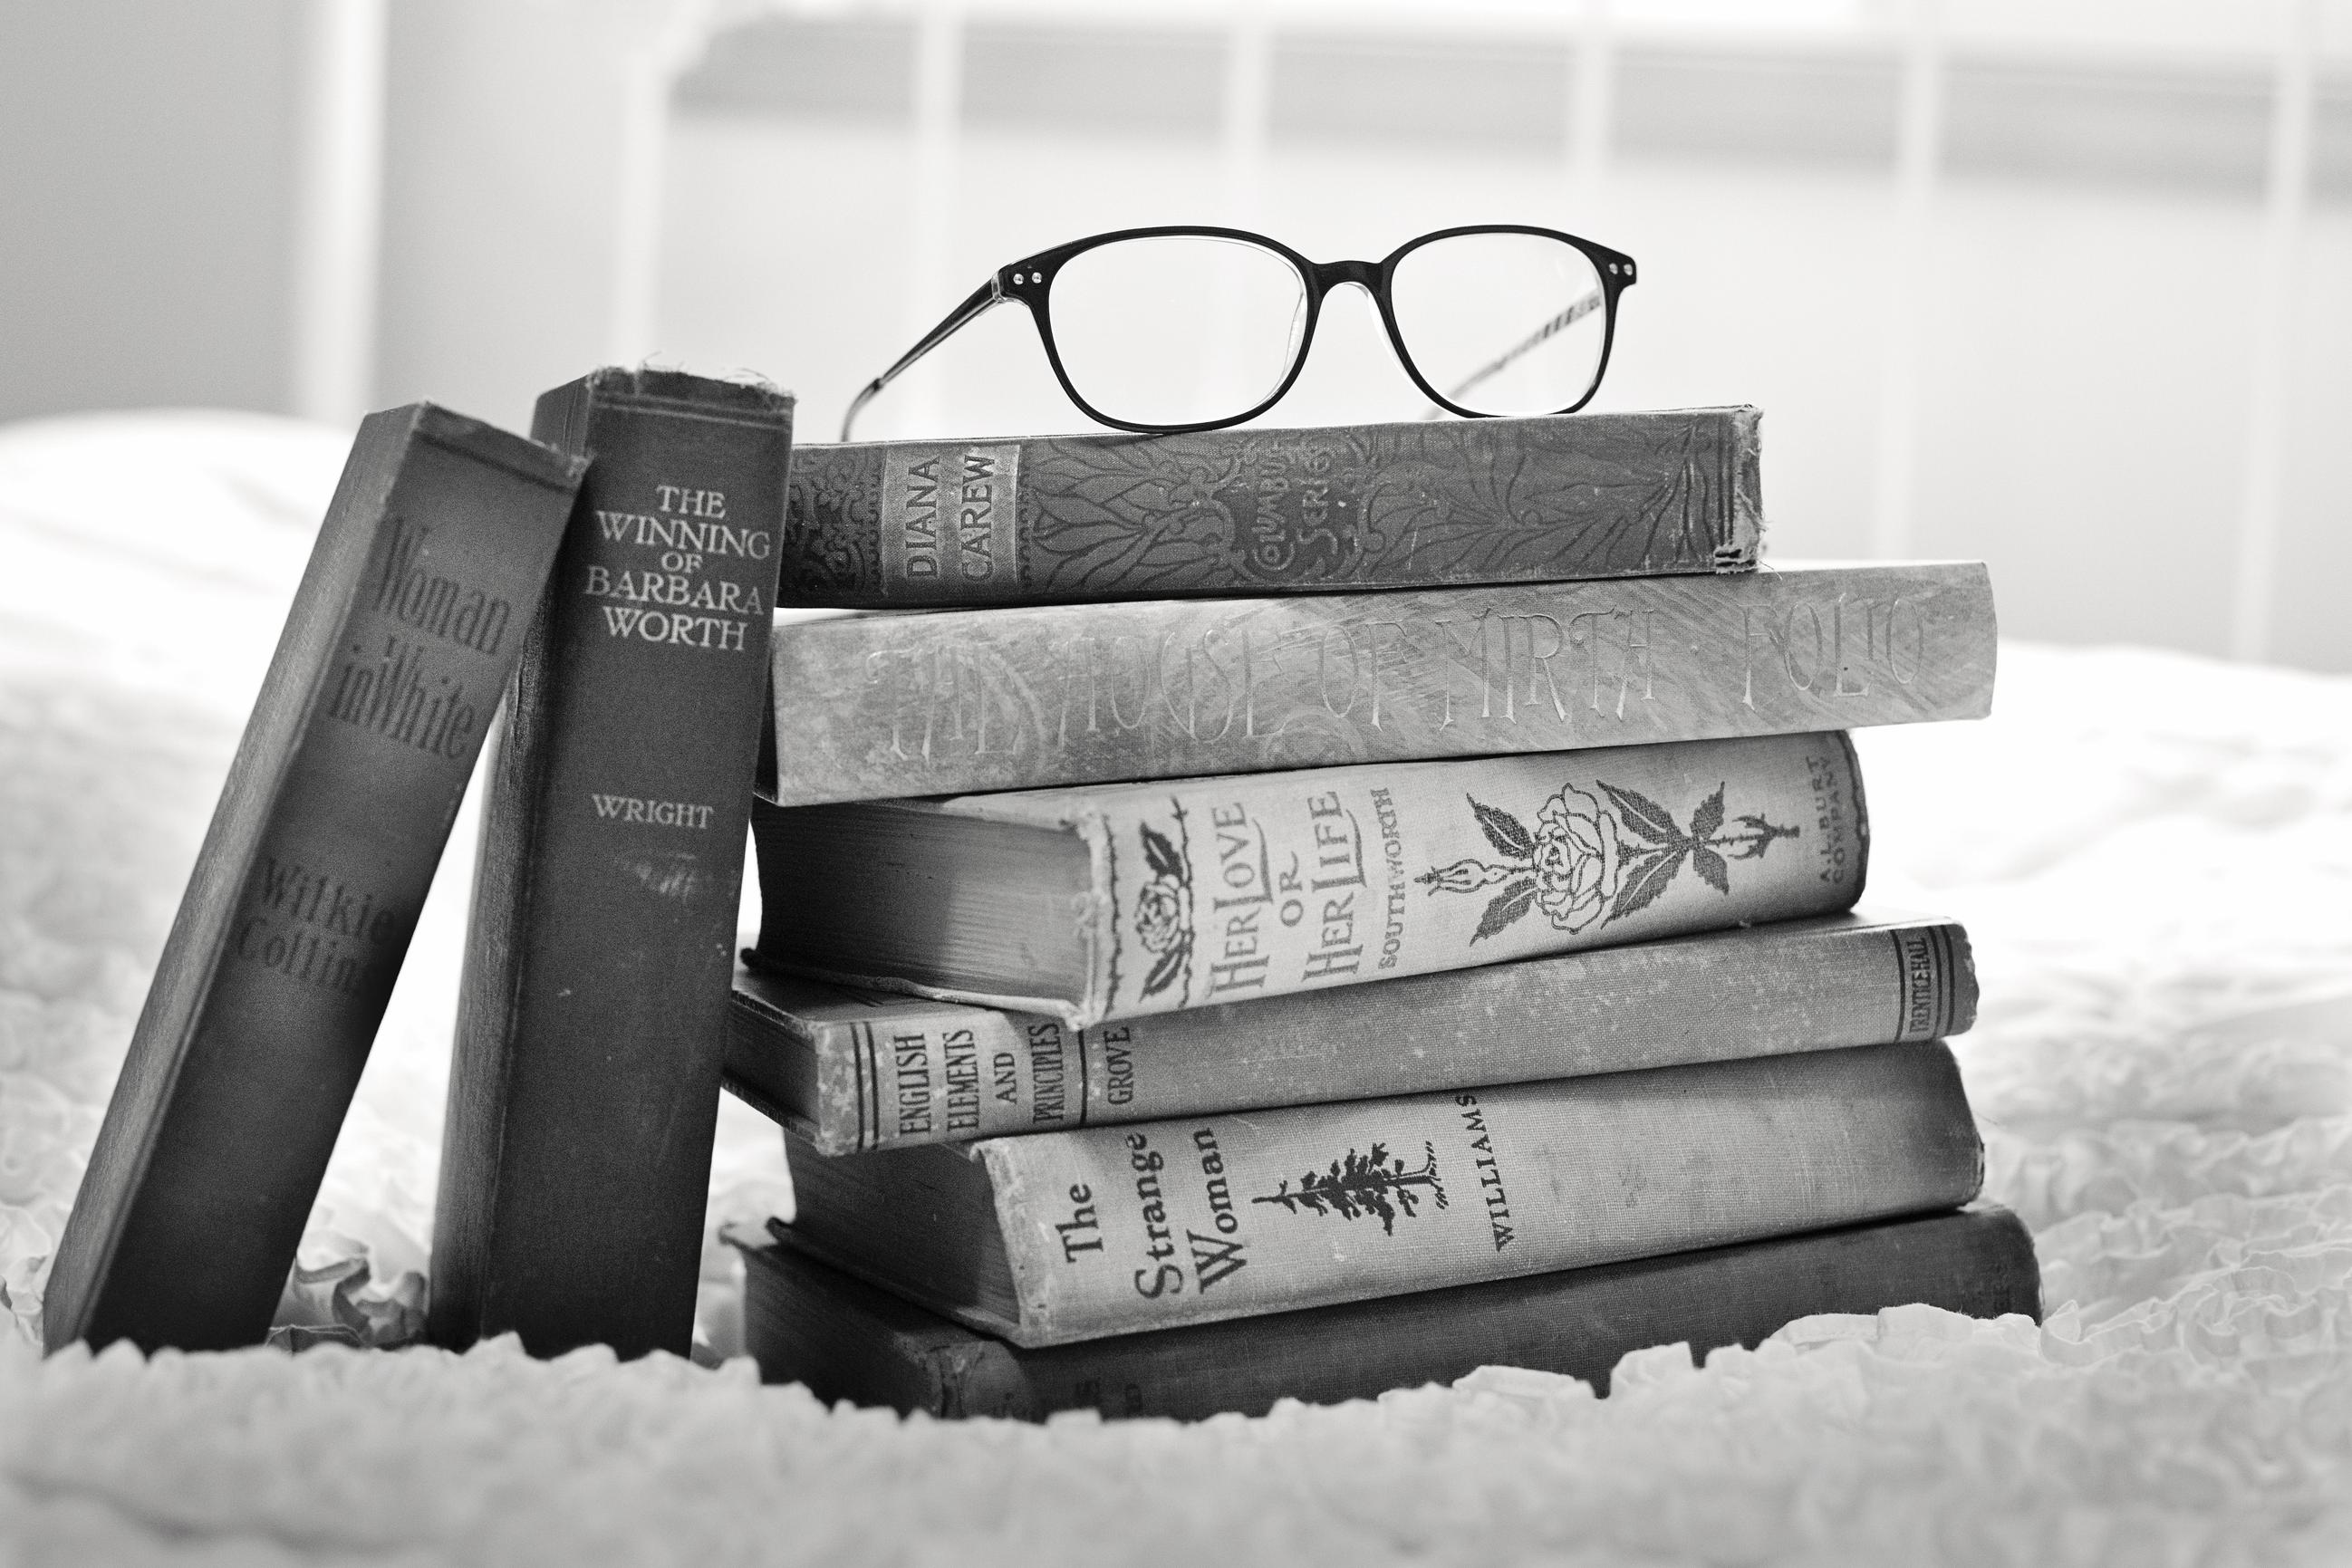book: (23, 339, 626, 1403), (759, 1017, 2068, 1377), (408, 294, 779, 1445), (696, 1185, 2142, 1459), (714, 723, 1941, 1045), (693, 900, 2039, 1181), (726, 548, 2063, 821), (625, 338, 1845, 628)
